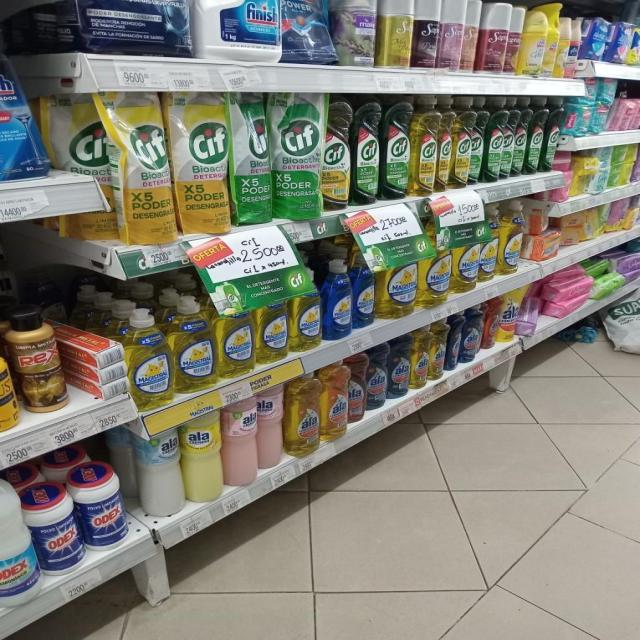ala_conc_amarillo: (285, 373, 320, 456), (320, 365, 348, 441), (410, 327, 429, 390)
ala_conc_azul: (366, 346, 388, 410), (388, 337, 409, 398)
ala_conc_rojo: (349, 358, 365, 423)
ala_crem_amarillo: (183, 412, 222, 503)
ala_crem_blanco: (134, 424, 182, 518)
ala_crem_rosado: (223, 396, 258, 487), (258, 385, 283, 469)
cif_conc_bot_amarilla: (321, 94, 351, 210), (411, 99, 437, 196), (437, 101, 452, 192), (453, 104, 469, 188)
cif_conc_botella_verde: (381, 97, 410, 200), (352, 96, 379, 206), (485, 104, 501, 182), (469, 104, 484, 185), (528, 102, 544, 174), (513, 105, 527, 177), (544, 101, 558, 173), (502, 105, 513, 179)
cif_conc_sachet_amarillo: (112, 88, 172, 243), (174, 90, 228, 236), (57, 87, 109, 187)
cif_conc_sachet_verde: (274, 91, 321, 220), (232, 92, 272, 225)
magistral_con_amarillo: (126, 308, 171, 410), (172, 296, 215, 392), (216, 306, 253, 377), (290, 282, 322, 352), (255, 300, 288, 364), (420, 240, 450, 308), (498, 200, 523, 276), (452, 240, 478, 293), (479, 212, 498, 282)
magistral_con_azul: (322, 258, 352, 340), (353, 259, 376, 330)
